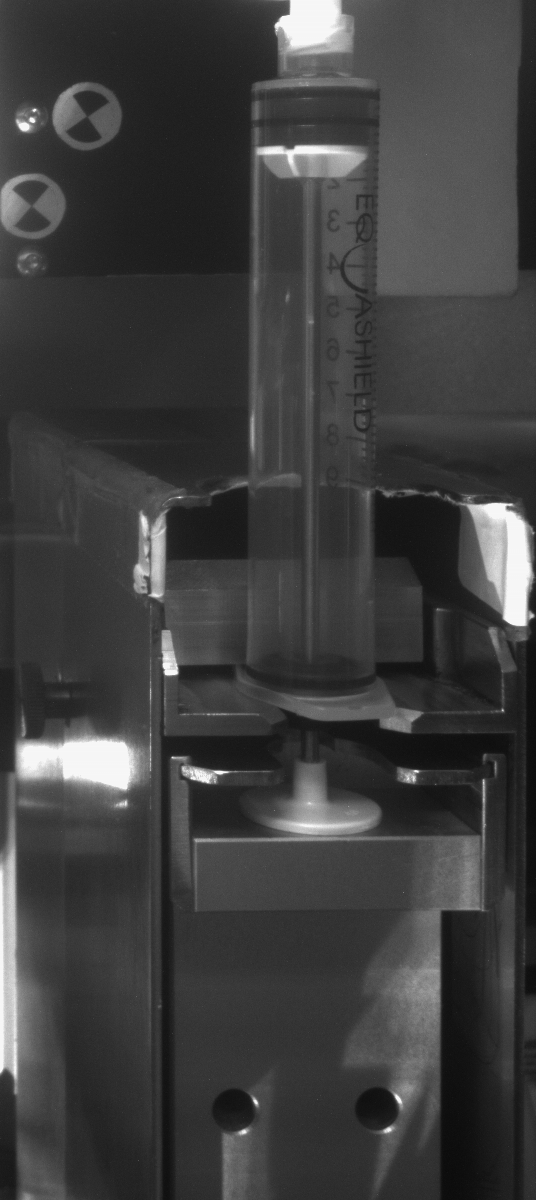piston: (250, 100, 383, 182)
